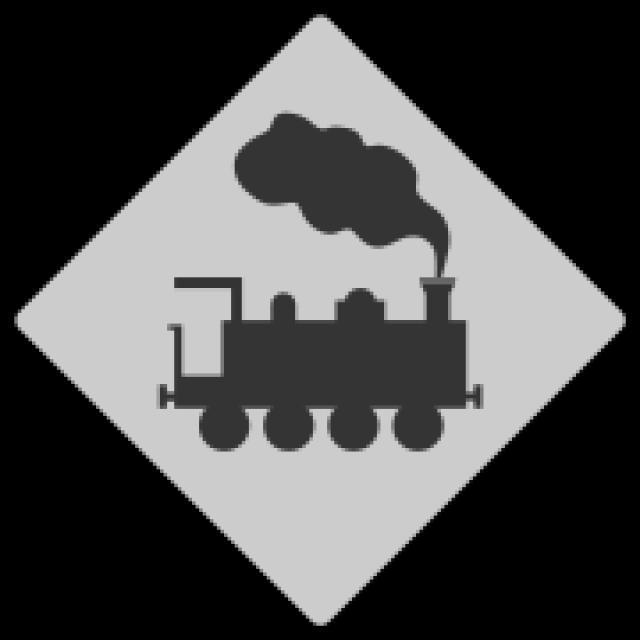unguarded level crossing: (72, 86, 571, 564)
